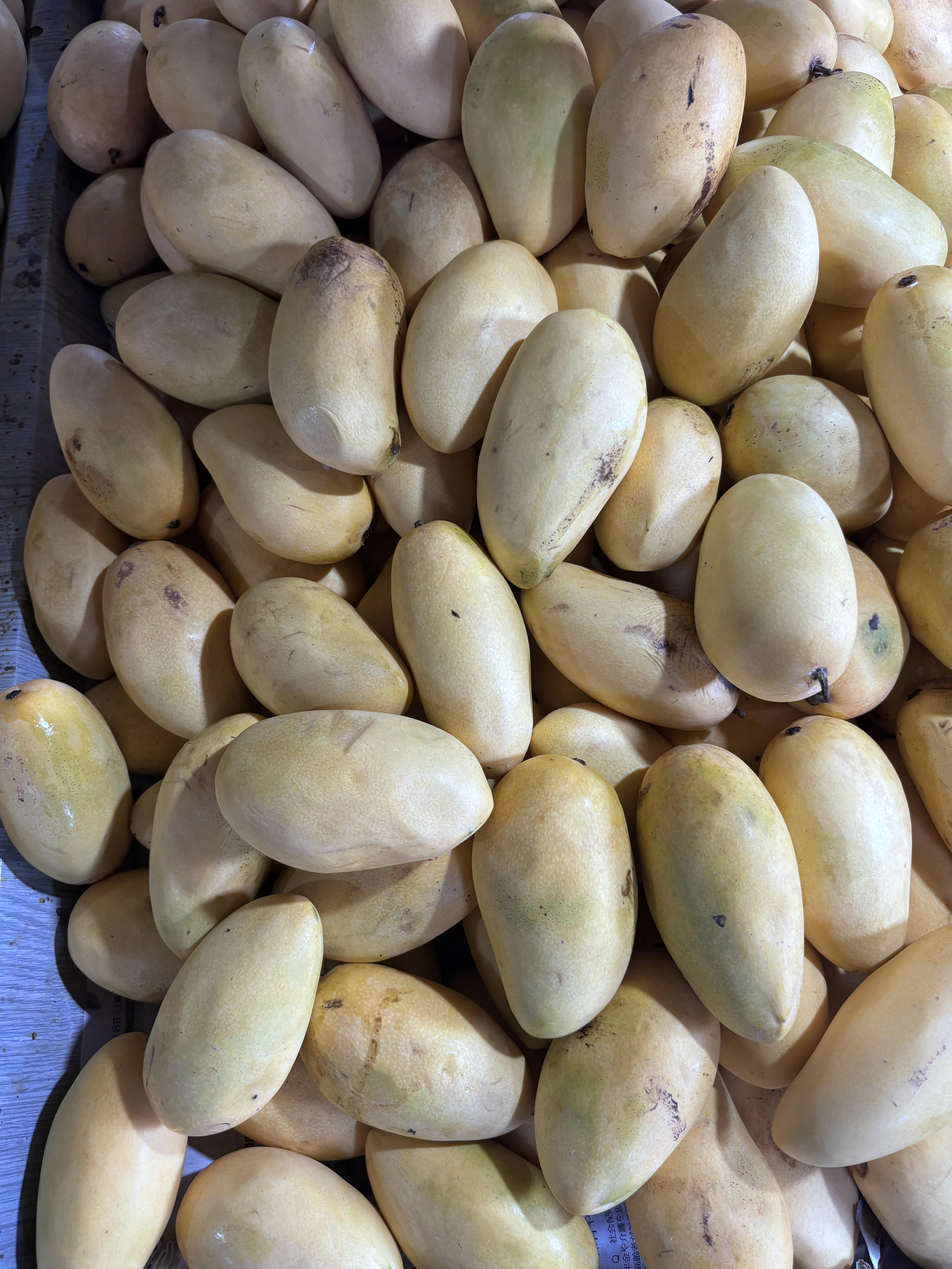mango: (636, 745, 804, 1043), (477, 308, 646, 589), (216, 710, 492, 873), (142, 894, 322, 1136), (653, 167, 819, 406), (585, 14, 746, 257), (694, 475, 857, 705), (269, 237, 405, 476), (50, 344, 198, 539), (239, 17, 382, 217)
occluded: (535, 948, 720, 1214), (472, 754, 638, 1038), (772, 926, 952, 1166), (302, 964, 534, 1142), (708, 135, 947, 307), (760, 716, 912, 972), (391, 521, 533, 778), (522, 562, 739, 729), (36, 1033, 188, 1269), (401, 240, 557, 453), (365, 1129, 598, 1269), (143, 129, 337, 297), (626, 1074, 792, 1269), (462, 12, 594, 256), (102, 541, 253, 739), (150, 712, 270, 960), (194, 405, 373, 564), (721, 1068, 859, 1269), (176, 1147, 400, 1269), (0, 679, 133, 884), (720, 375, 892, 532), (230, 577, 413, 715), (273, 838, 476, 962), (370, 139, 494, 318), (115, 273, 278, 409), (24, 475, 131, 680), (595, 397, 721, 571), (862, 265, 952, 504), (541, 222, 660, 400), (197, 484, 366, 605), (795, 543, 909, 719), (529, 702, 671, 840), (329, 0, 470, 138), (47, 20, 159, 174), (720, 940, 829, 1089), (697, 0, 838, 111), (68, 868, 182, 1003), (146, 19, 263, 149), (850, 1124, 952, 1269), (880, 739, 952, 944), (369, 403, 477, 536), (237, 1056, 369, 1162), (765, 71, 894, 174), (462, 909, 546, 1048), (658, 692, 801, 773), (64, 168, 158, 287), (892, 95, 952, 263), (85, 677, 184, 777), (896, 680, 952, 852), (582, 0, 682, 90), (897, 513, 952, 669), (875, 452, 950, 541), (452, 0, 561, 60), (885, 0, 952, 91), (804, 302, 867, 396), (140, 181, 197, 273), (132, 0, 225, 50), (100, 271, 172, 335), (834, 33, 901, 97), (813, 0, 893, 53), (356, 556, 398, 649), (0, 0, 27, 139), (215, 0, 316, 33), (862, 531, 905, 591), (307, 0, 345, 65), (764, 328, 812, 378), (130, 781, 163, 849), (736, 108, 776, 144), (913, 83, 952, 115), (101, 0, 142, 30), (751, 117, 751, 118)
